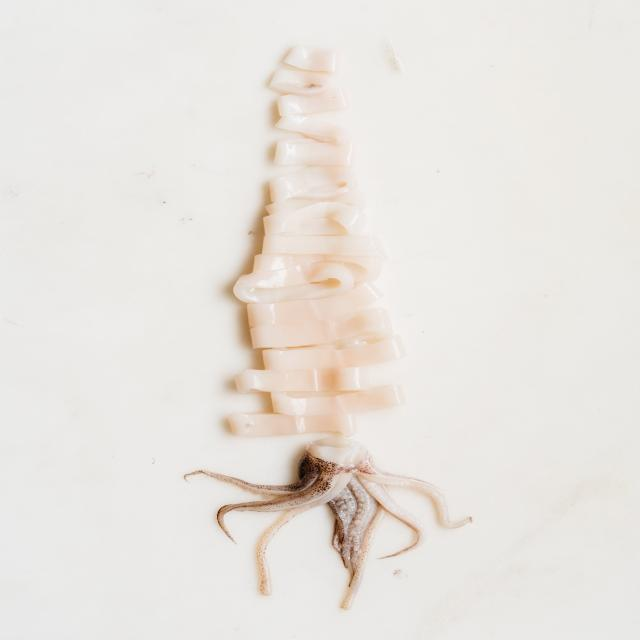squid: (184, 46, 471, 609)
